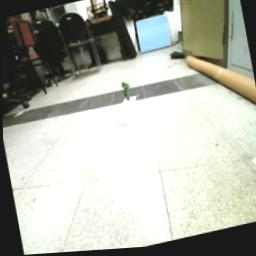herb: (121, 83, 133, 103)
